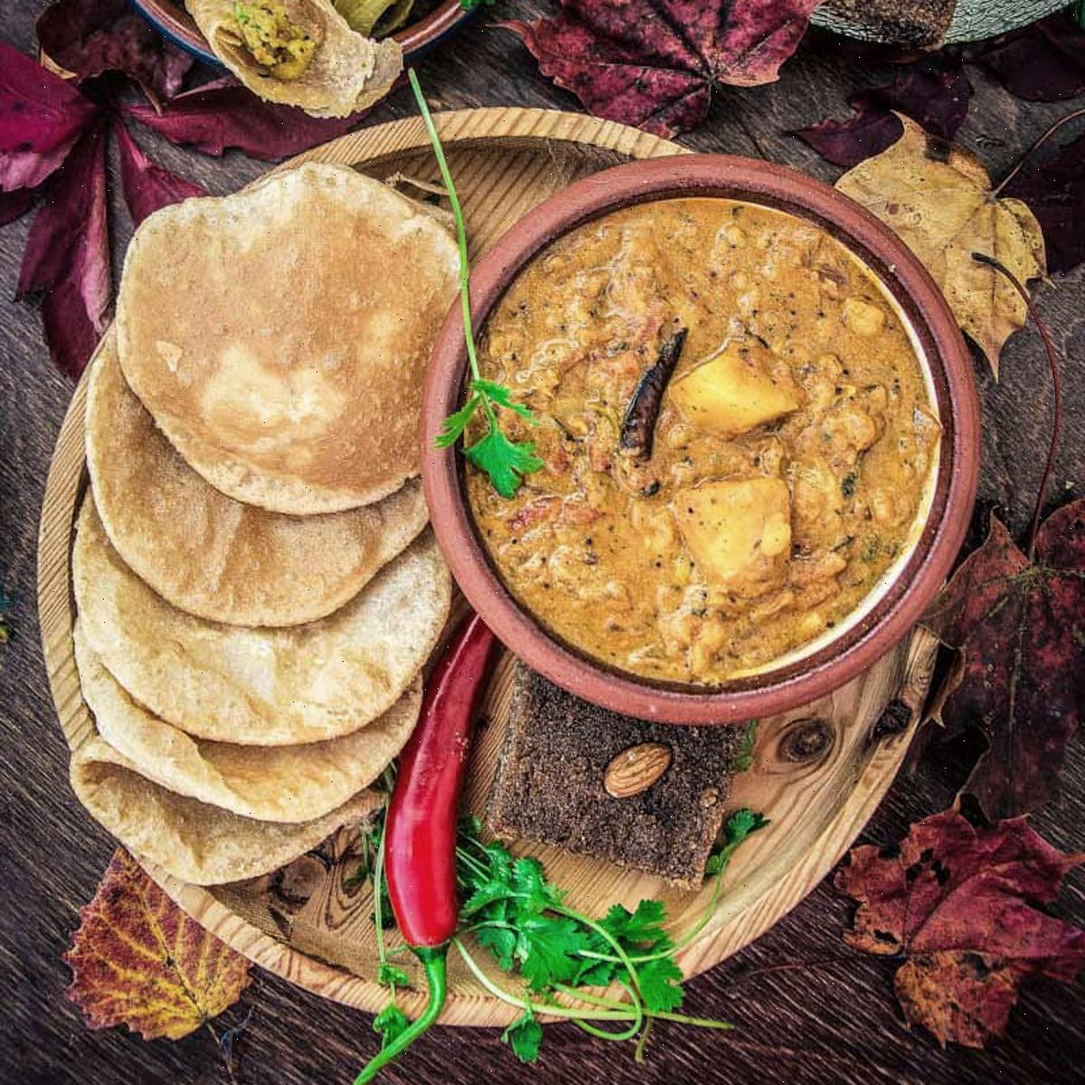puri: (63, 181, 407, 898)
